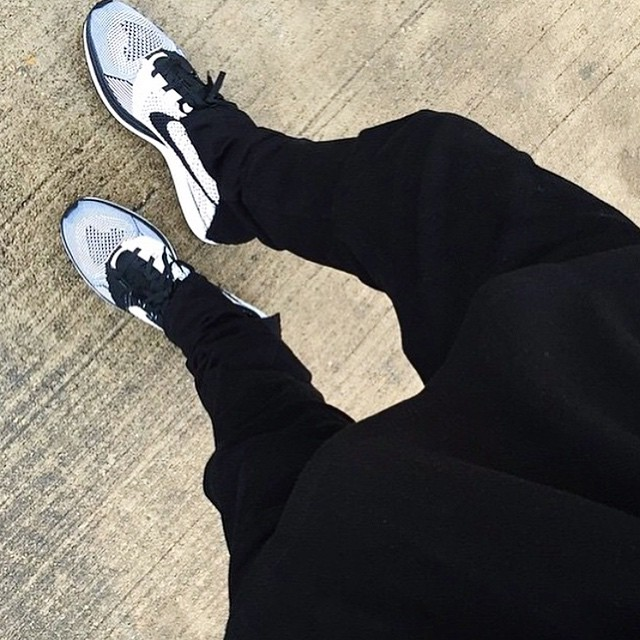sneaker: (59, 1, 284, 257), (32, 179, 293, 372)
